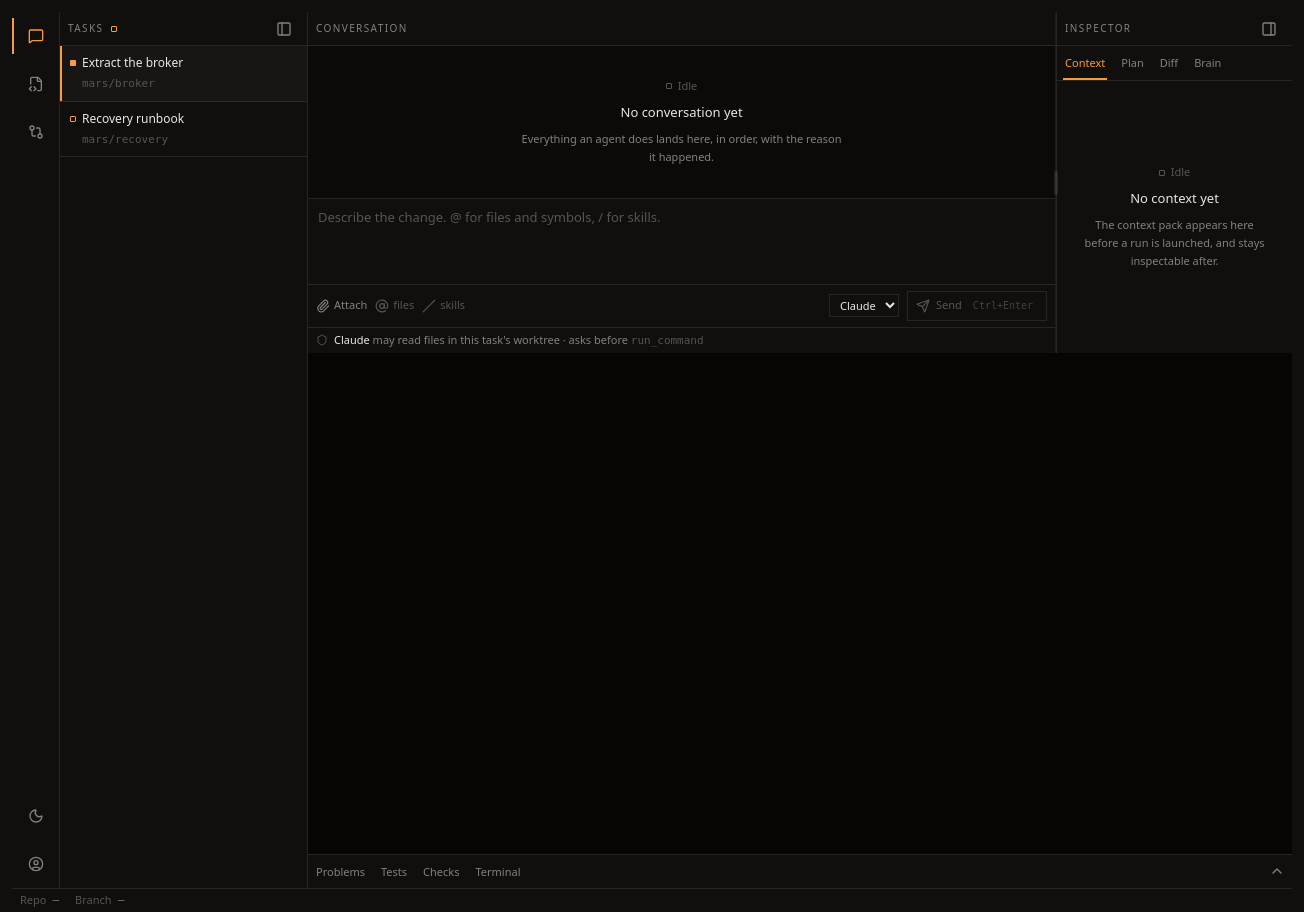
Test: inspector › collapses to a rail whose tabs expand it again
The image size is (1304, 912).
Check: the element "Inspector" is shown, box [1056, 12, 1292, 353]
Click the button named "Collapse inspector" at (1269, 28), box [1254, 12, 1284, 44]
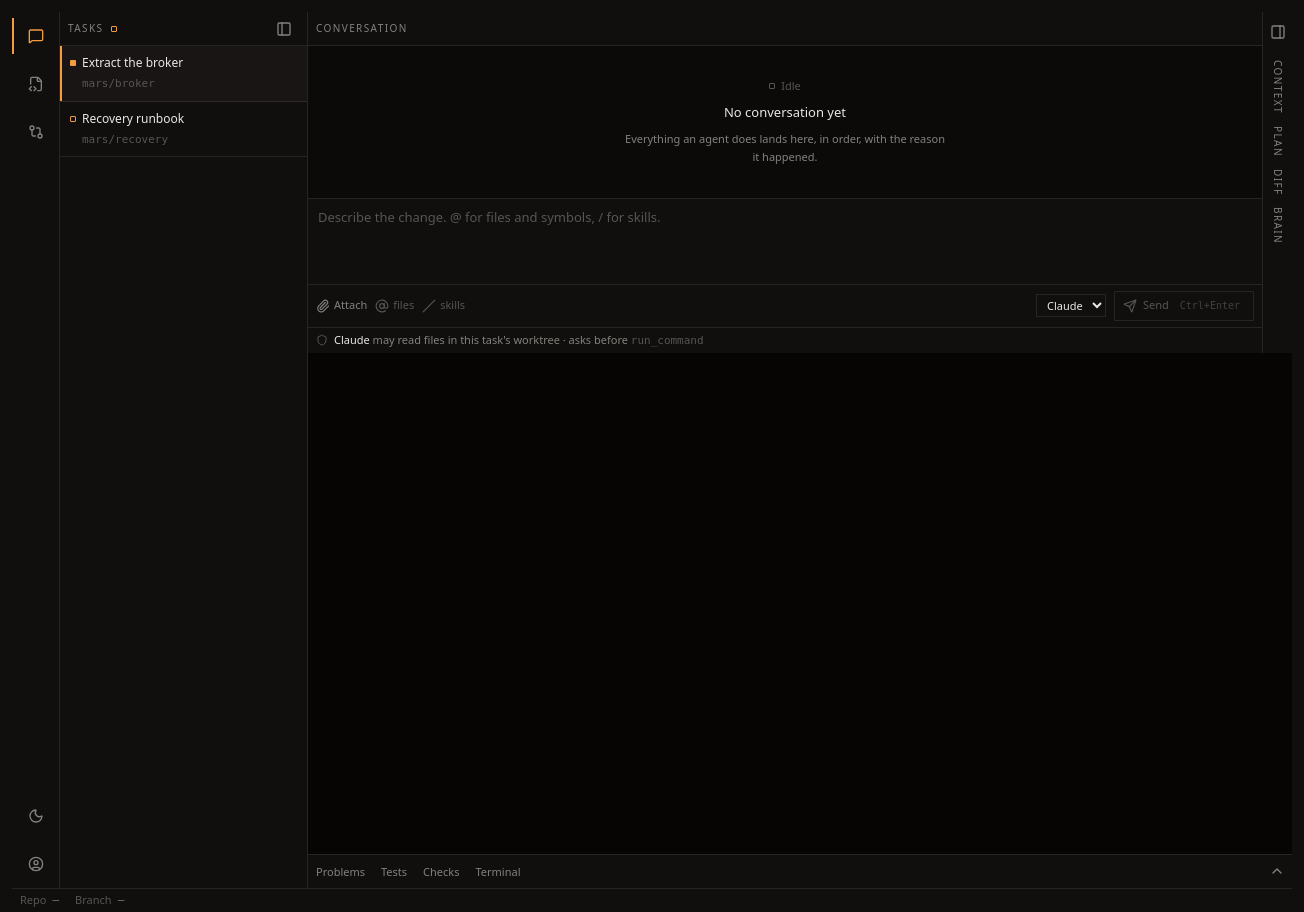
Click the button "Plan" at (1278, 141), box [1270, 126, 1285, 157]
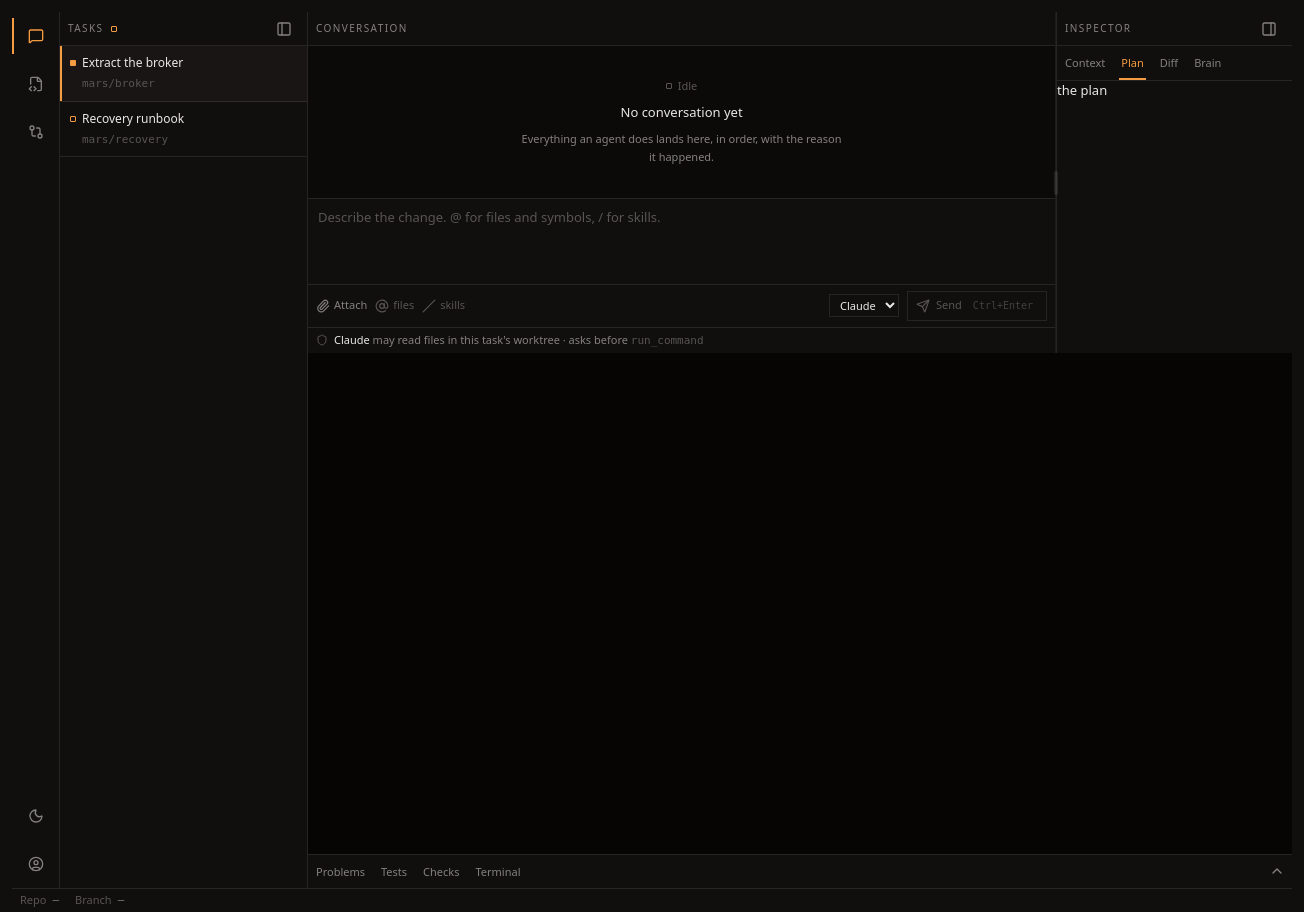
Check: the element "Inspector" is shown, box [1056, 12, 1292, 353]
Check: the text "the plan" is shown, box [1057, 81, 1107, 99]
